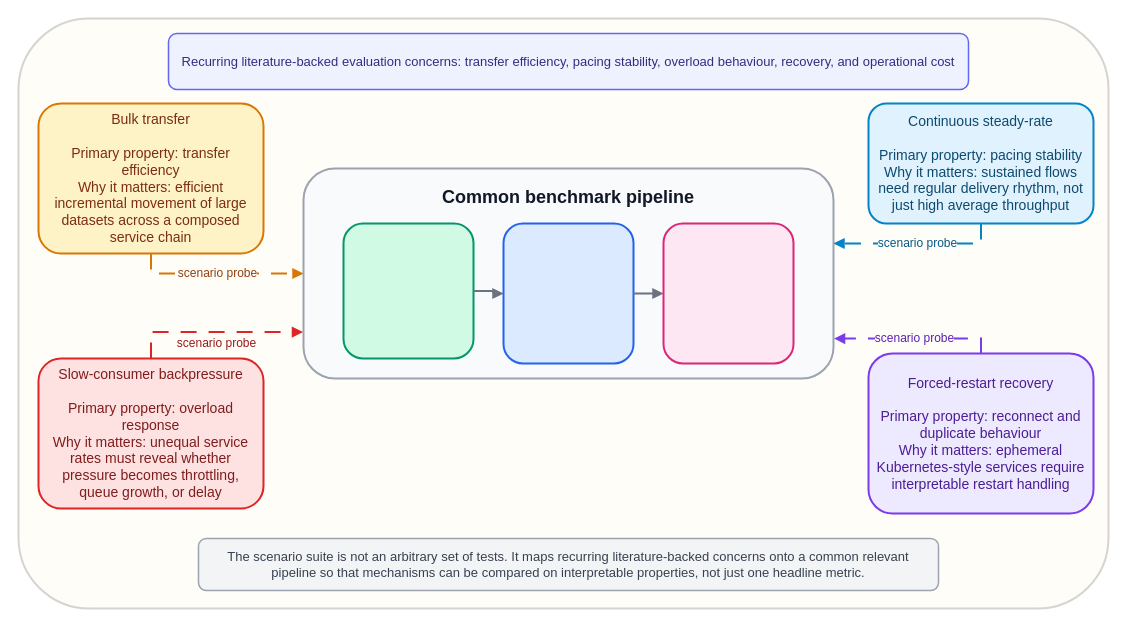
The diagram is 1126 pixels wide and 626 high, and some of its shapes have lost their labels. The centre of each missing label's shape, as x and y in pixels:
"Producer Synthetic records or chunked dataset input" goes at point 408,290.
"Sink Arrival times, latency, throughput, correctness" goes at point 728,293.
"Transformer Deterministic validation, filtering, or hashing" goes at point 568,293.
